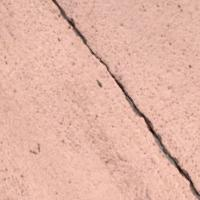crack: (53, 0, 198, 199)
